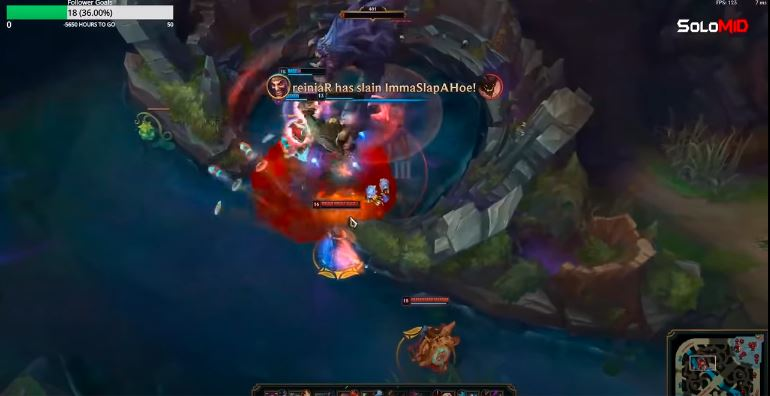bar: (398, 292, 453, 308), (313, 86, 370, 101), (275, 65, 331, 78), (312, 199, 362, 211), (272, 92, 328, 102)
